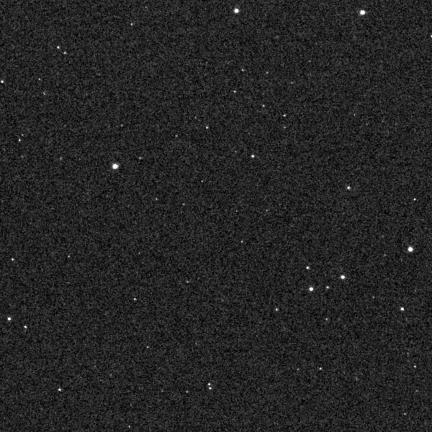blob: (360, 10, 365, 16), (234, 9, 240, 14), (113, 164, 118, 169), (408, 247, 413, 252), (309, 287, 314, 292), (8, 317, 12, 321), (341, 276, 345, 279), (401, 308, 404, 310)
